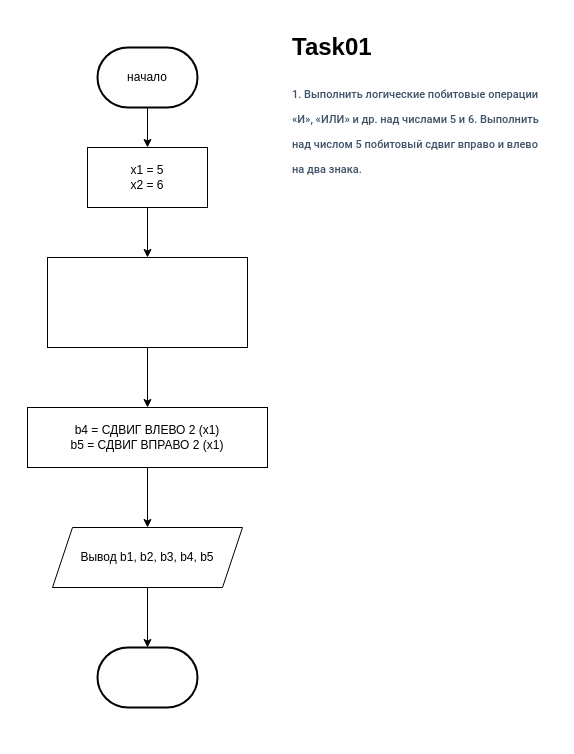
The diagram is 574 pixels wide and 754 high, and some of its shapes have lost their labels. Each missing label, with the box of its shape:
b1 = x1 И x2 b2 = x1 ИЛИ x2 b3 = x1 иск ИЛИ x2 b4 = НЕ x1: (46, 256, 248, 348)
конец: (96, 646, 198, 708)
